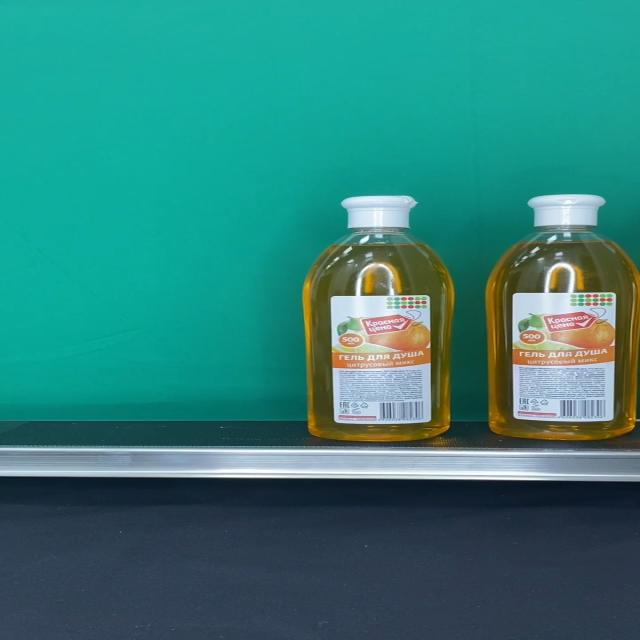Bottle: (487, 194, 640, 439), (303, 195, 455, 441)
Cap: (528, 194, 609, 227), (341, 195, 418, 229)
